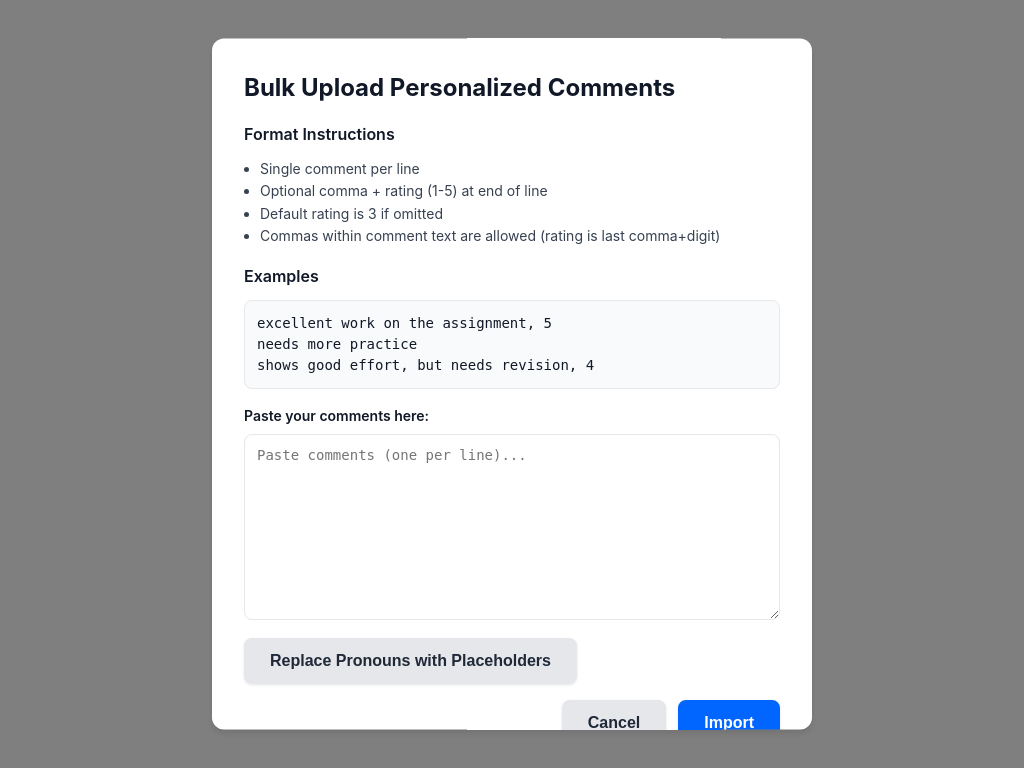
Test: BulkUploadModal - Story 5: Progress and Results › AC2: Results summary display › should display successful import count
Type "comment 1, 5" into the text box at (512, 527), box [244,434,780,620]
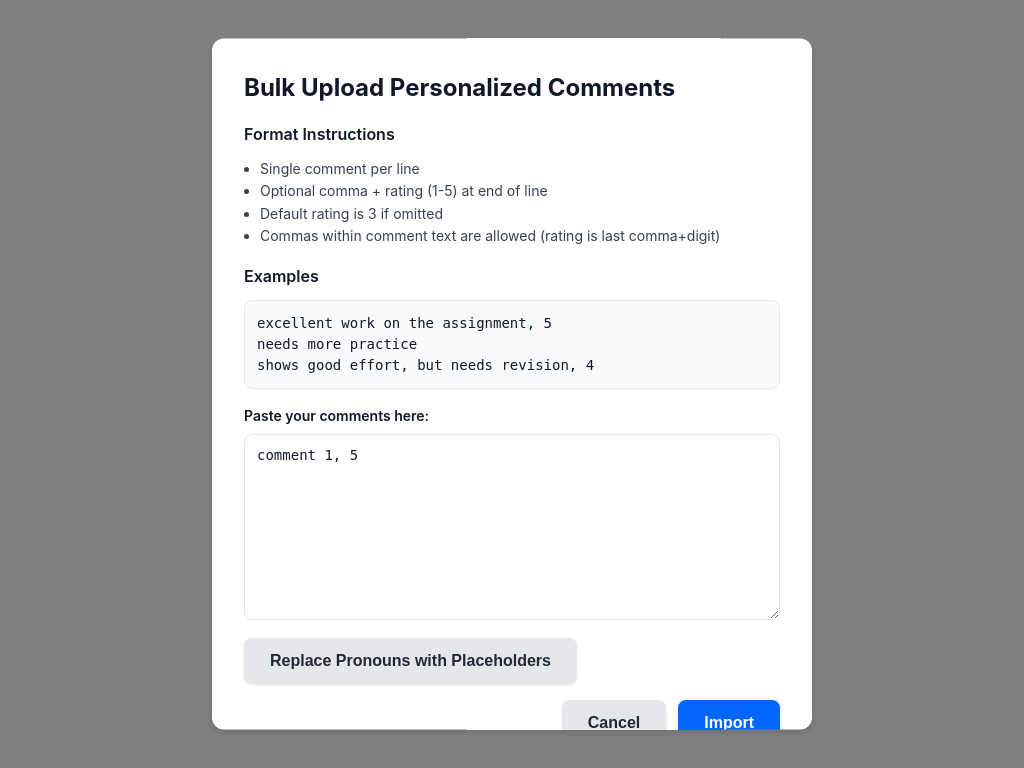
Click the button "Import" at (729, 723), box [678,700,780,746]
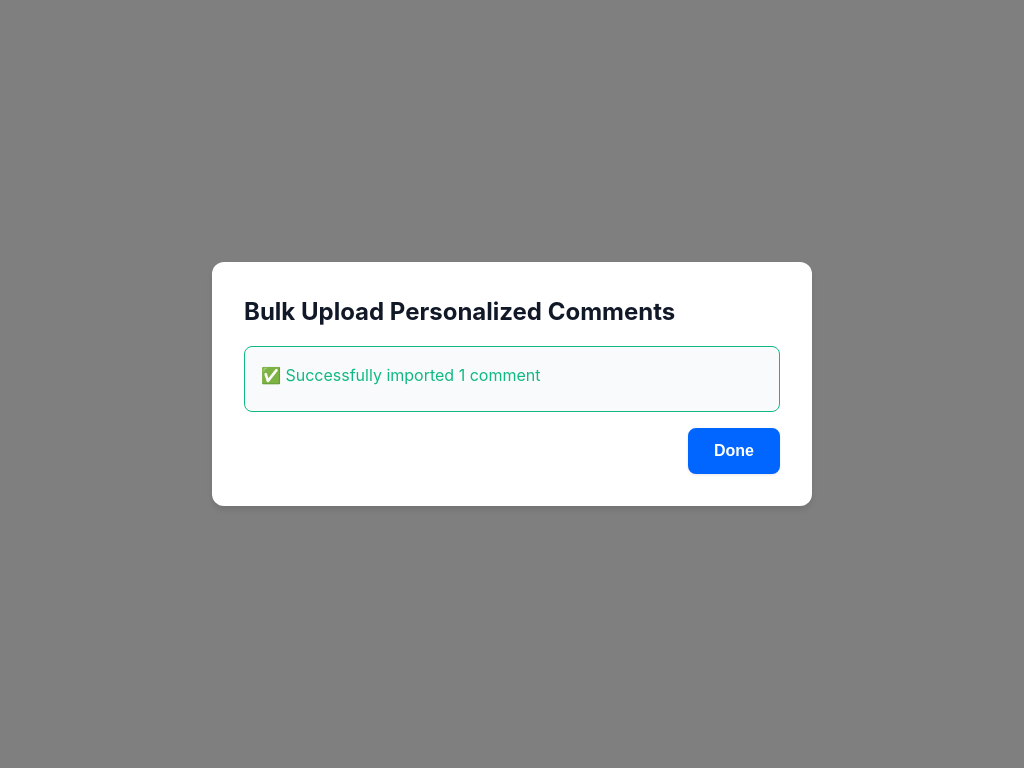
Now the text "✅ Successfully imported 1 comment" is shown, box [261,365,540,385]
